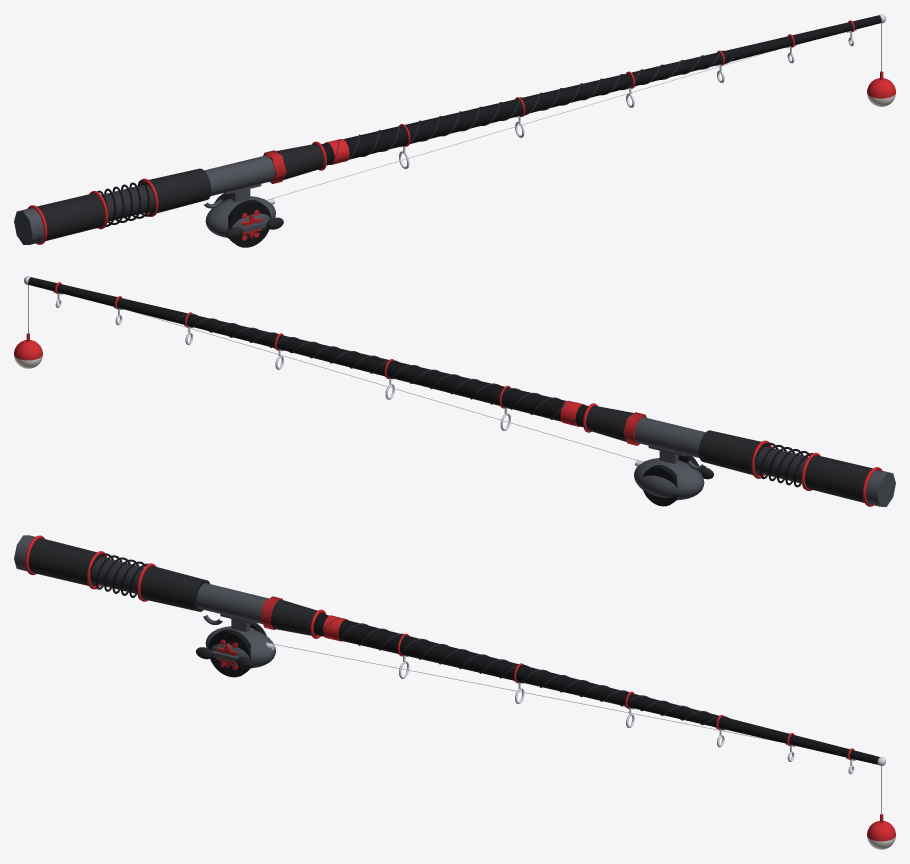
The model's file is ROD_CARBON.glb.
The picture shows the model from 3 angles, top to bottom: view 1: azimuth 30°, elevation 25°; view 2: azimuth 150°, elevation 25°; view 3: azimuth 330°, elevation 25°; orthographic projection.
Visible parts, largest first — view 1: blank, rear_grip, mid_grip, reel_seat, reel_frame, split_carbon, fore_grip, butt_cap, reel_side_l, line, weave_b, weave_a (+1 smaller); view 2: blank, rear_grip, mid_grip, reel_frame, reel_seat, split_carbon, fore_grip, butt_cap, line, reel_side_r, weave_b, weave_a (+1 smaller); view 3: blank, rear_grip, mid_grip, reel_seat, reel_frame, fore_grip, split_carbon, reel_side_l, line.
Boxes of the visible parts, left/top/right/bottom form: blank: left=321, top=15, right=881, bottom=165; rear_grip: left=37, top=193, right=104, bottom=240; mid_grip: left=141, top=168, right=211, bottom=213; reel_seat: left=204, top=155, right=274, bottom=196; reel_frame: left=205, top=196, right=275, bottom=237; split_carbon: left=101, top=184, right=154, bottom=221; fore_grip: left=276, top=144, right=323, bottom=179; butt_cap: left=14, top=208, right=43, bottom=244; reel_side_l: left=228, top=200, right=271, bottom=247; line: left=266, top=49, right=777, bottom=200; weave_b: left=344, top=50, right=723, bottom=161; weave_a: left=334, top=55, right=734, bottom=157; blank: left=28, top=277, right=588, bottom=427; rear_grip: left=805, top=455, right=872, bottom=502; mid_grip: left=698, top=430, right=768, bottom=475; reel_frame: left=634, top=458, right=704, bottom=500; reel_seat: left=635, top=417, right=705, bottom=457; split_carbon: left=755, top=446, right=808, bottom=483; fore_grip: left=586, top=406, right=633, bottom=441; butt_cap: left=866, top=470, right=895, bottom=506; line: left=134, top=312, right=643, bottom=462; reel_side_r: left=642, top=465, right=677, bottom=506; weave_b: left=175, top=313, right=575, bottom=425; weave_a: left=189, top=318, right=576, bottom=419; blank: left=313, top=613, right=879, bottom=764; rear_grip: left=28, top=538, right=104, bottom=586; mid_grip: left=140, top=566, right=209, bottom=611; reel_seat: left=196, top=583, right=268, bottom=624; reel_frame: left=205, top=626, right=275, bottom=668; fore_grip: left=271, top=599, right=322, bottom=635; split_carbon: left=90, top=557, right=143, bottom=594; reel_side_l: left=208, top=629, right=250, bottom=677; line: left=266, top=642, right=776, bottom=741.
Size of the model in its own units: 1.73 by 0.2 by 0.1048.
